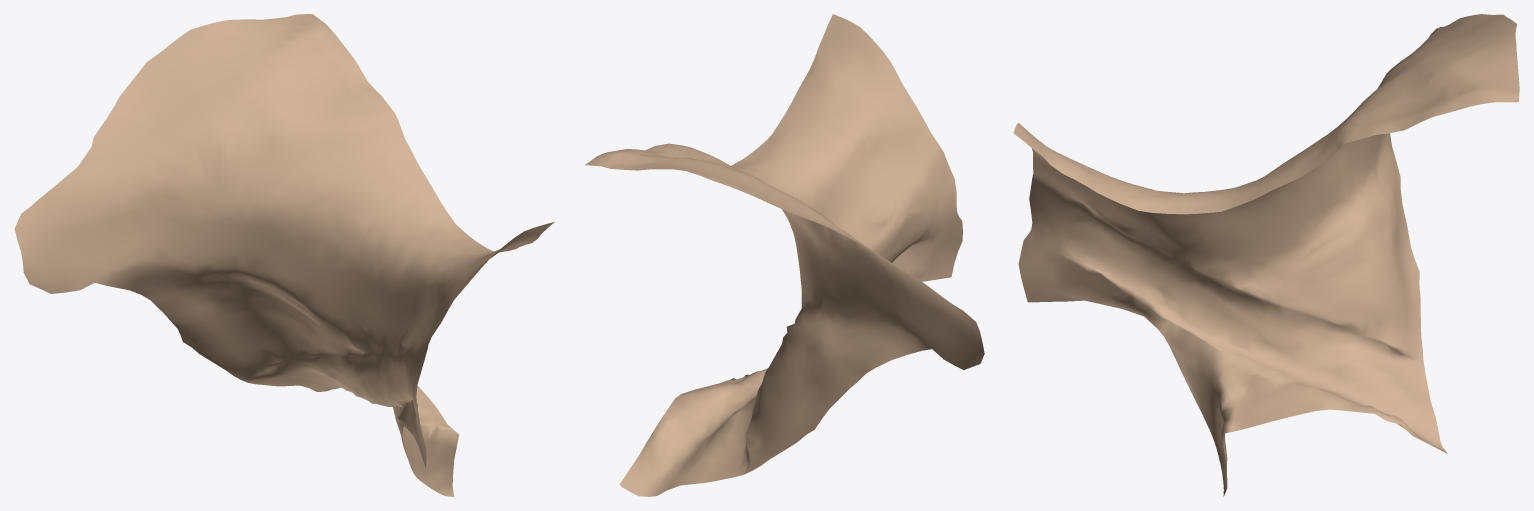
3 views of the same model, side by side, from view 1: azimuth 30°, elevation 25°; view 2: azimuth 150°, elevation 25°; view 3: azimuth 270°, elevation 25° (orthographic). The views are drawn at different scales.
Parts seen in each view (by area): view 1: 右侧颈筋膜浅层; view 2: 右侧颈筋膜浅层; view 3: 右侧颈筋膜浅层.
Boxes of the visible parts, x1,y1,x2,y2 form: 右侧颈筋膜浅层: (14,14,554,496); 右侧颈筋膜浅层: (585,14,984,496); 右侧颈筋膜浅层: (1013,14,1519,496).
Bounding box in the file's own units: 0.2597 × 0.2855 × 0.3176.
